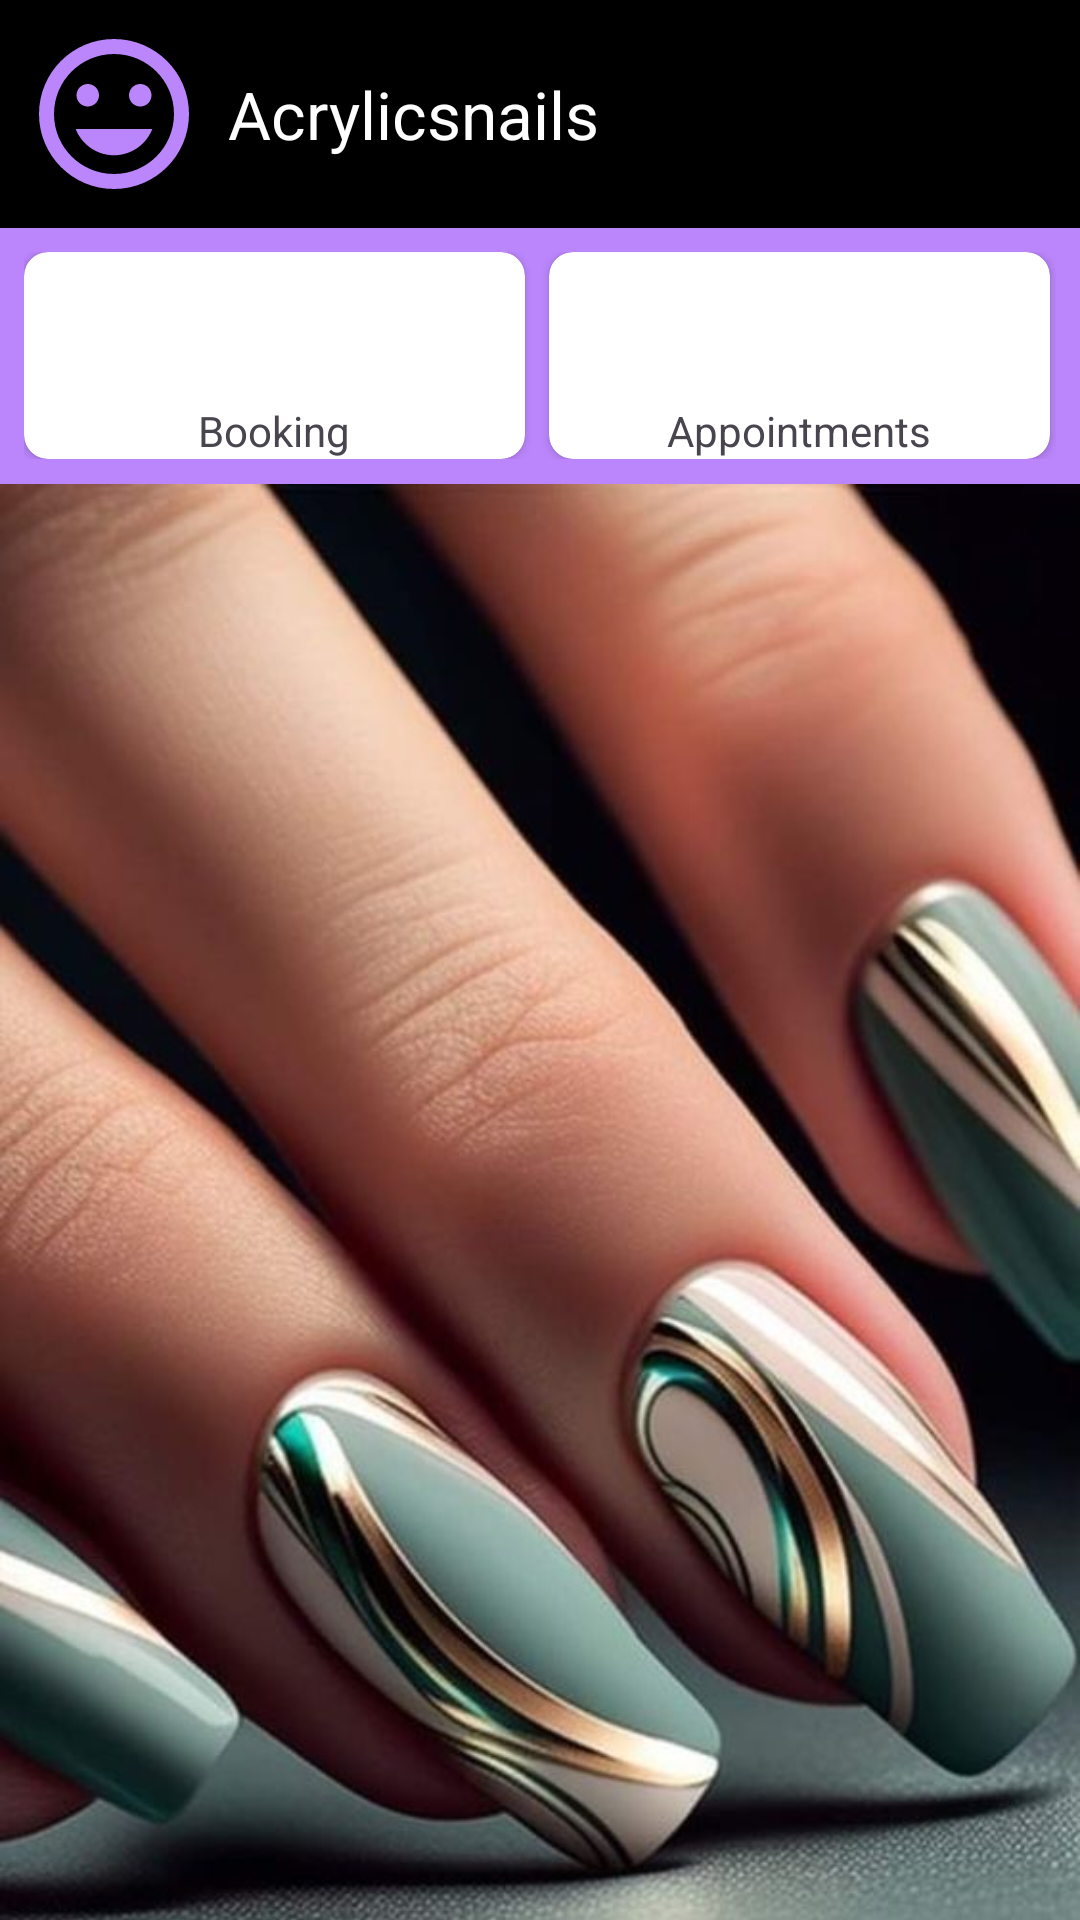

Screen size 1080*1920. Icon name, then its box in pixels as (x1, y1, x2, y2):
mood: (39, 39, 189, 189)
